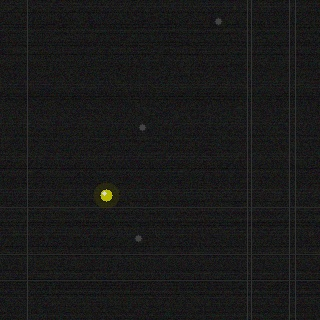yellow_warning: (98, 187, 114, 203)
